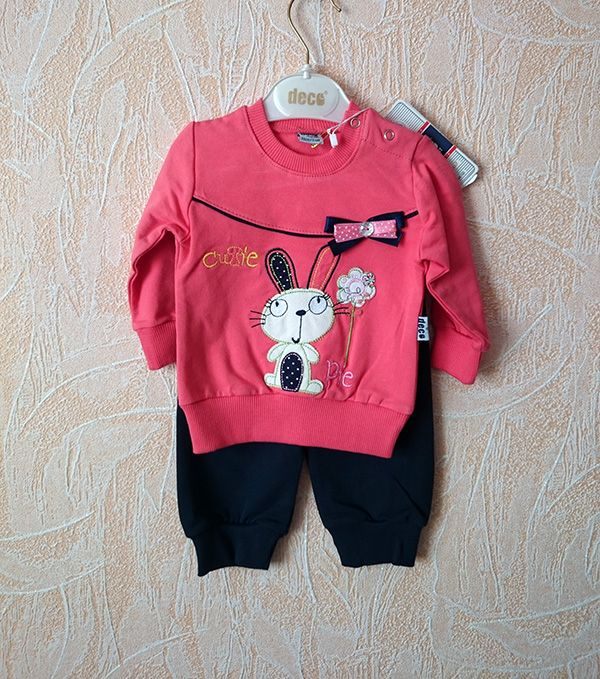clothes: (124, 98, 487, 589)
